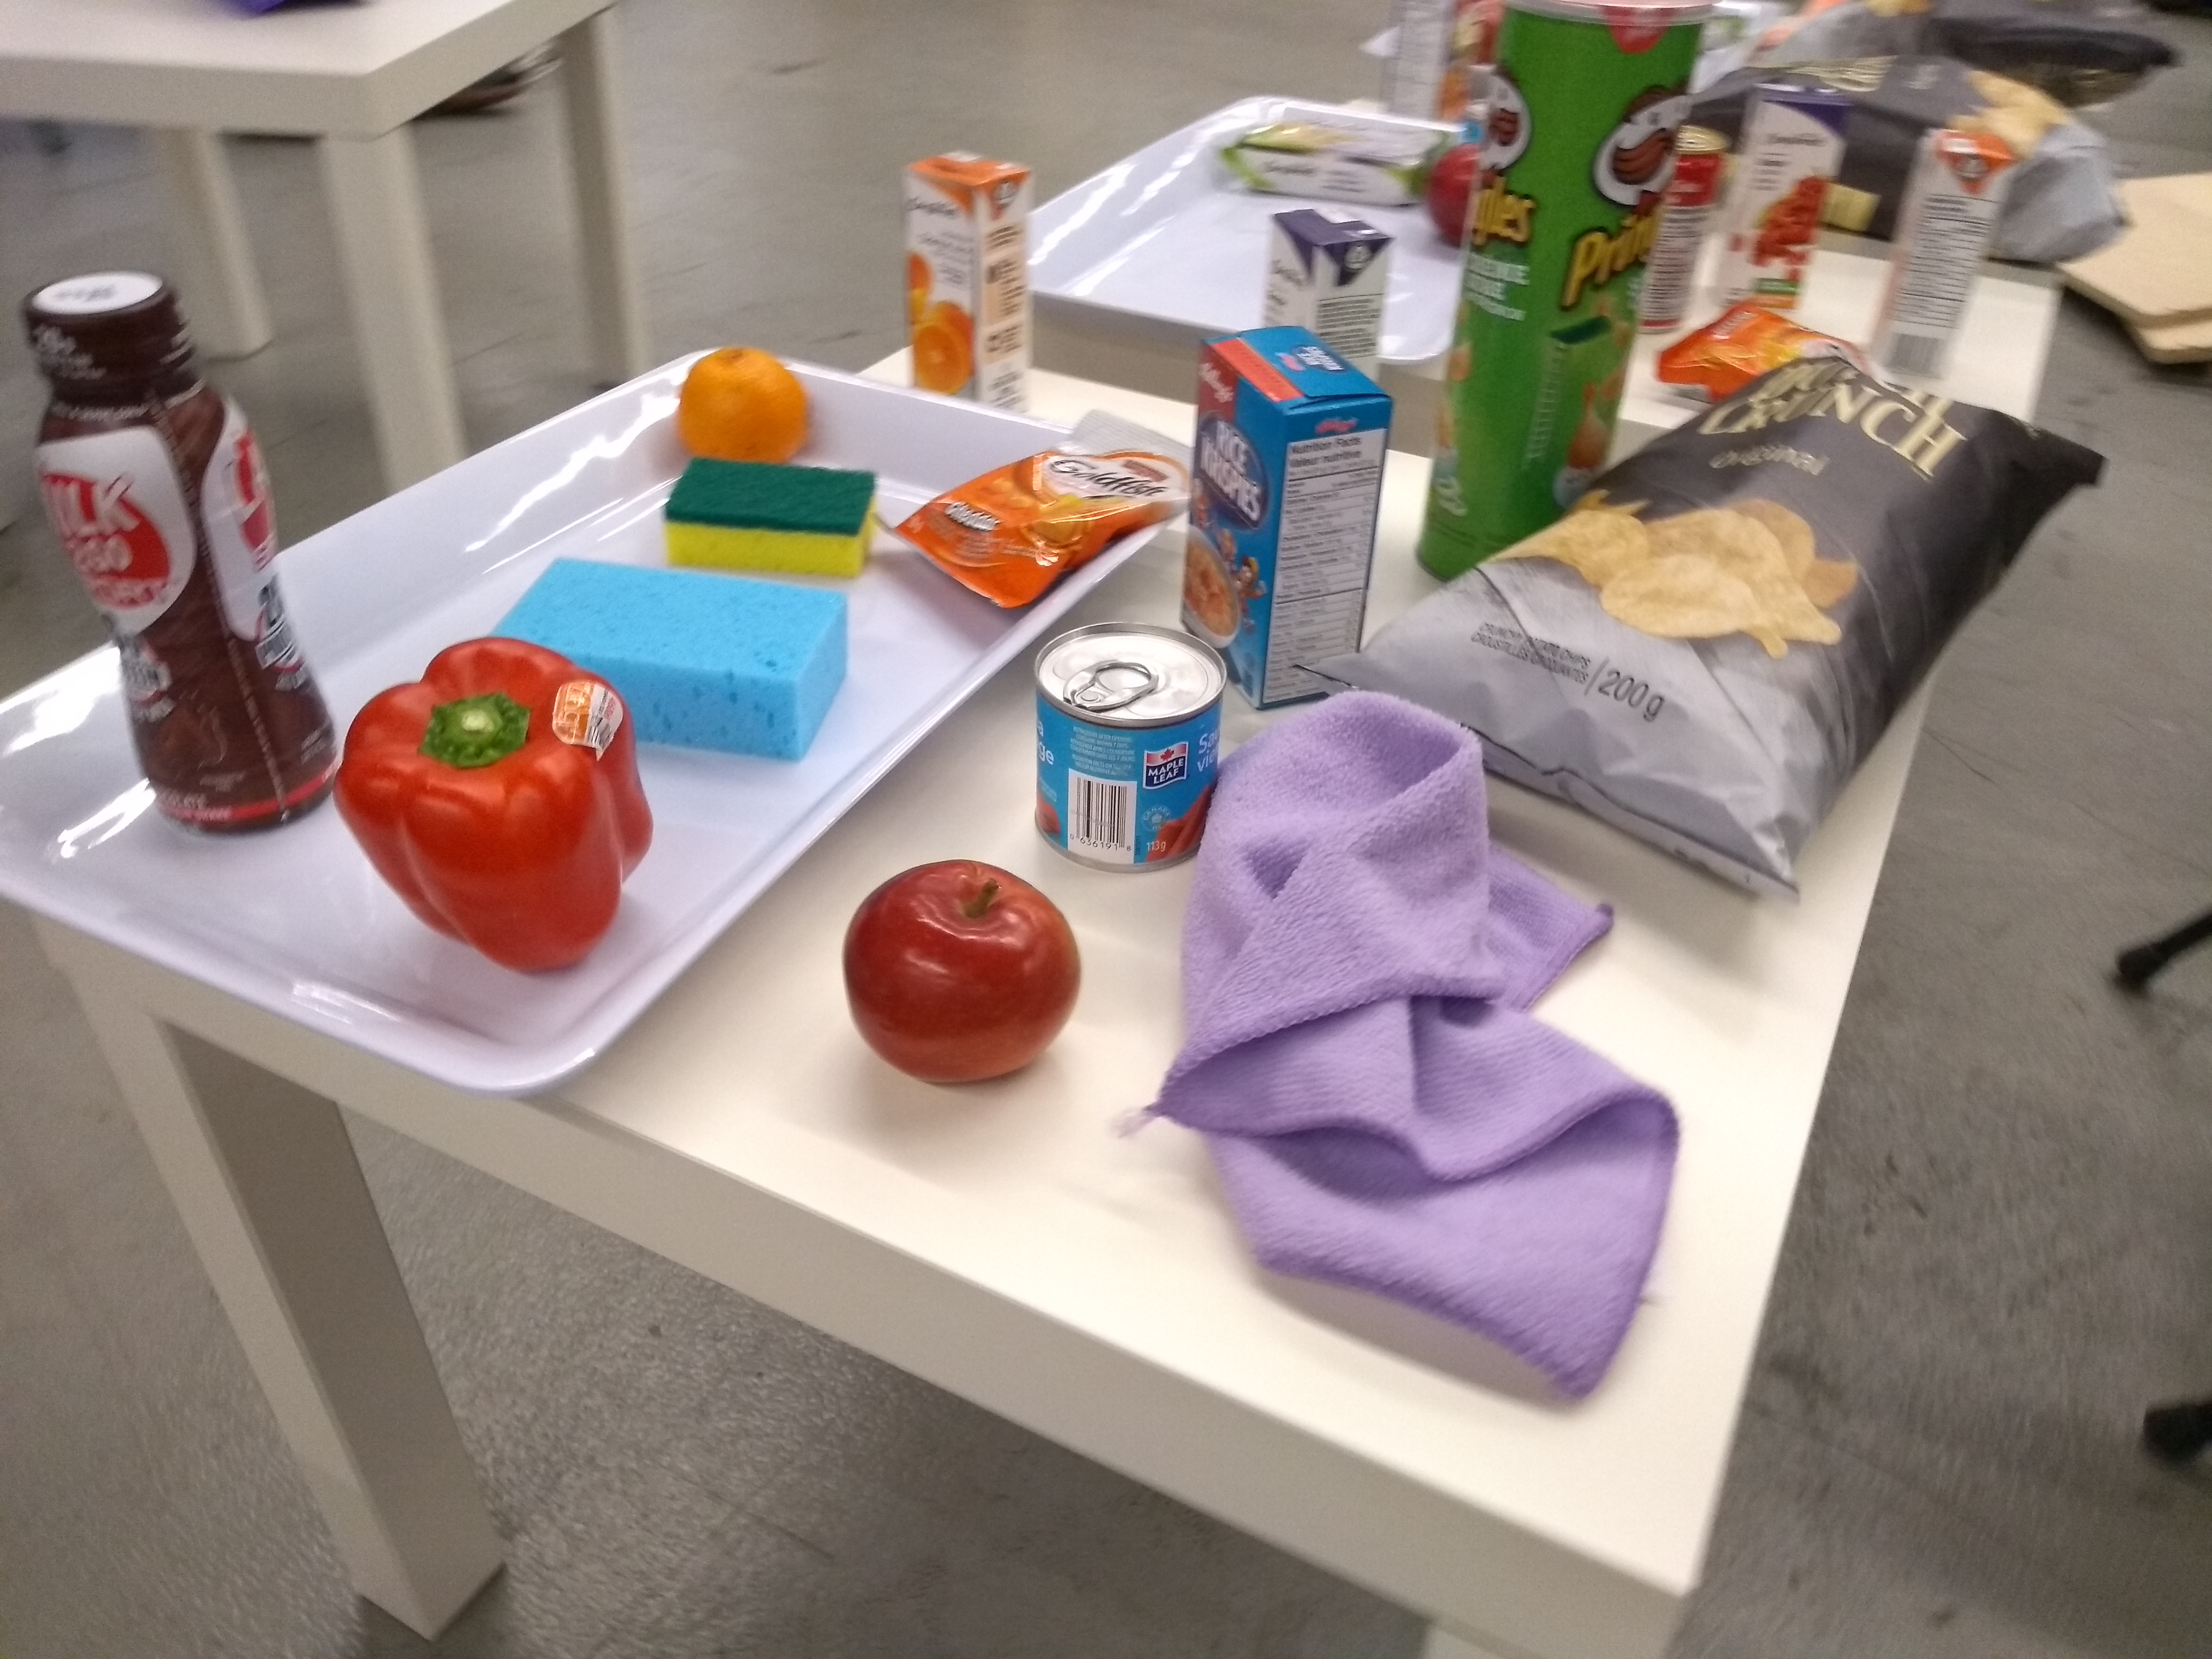apple: (831, 852, 1092, 1093)
cereal: (1165, 319, 1392, 716)
chocolate_drink: (12, 254, 352, 849)
cloth_opl: (1130, 680, 1688, 1419)
crackers: (860, 432, 1205, 624)
grape_juice: (1705, 61, 1878, 326)
orange: (669, 340, 819, 476)
orange_juice: (1864, 117, 2027, 382), (892, 138, 1043, 416)
paprika: (324, 631, 664, 985)
potato_chips: (1280, 347, 2123, 910)
pringles: (1400, 0, 1707, 587)
sausages: (1022, 613, 1230, 878)
scrubby: (657, 451, 885, 589)
